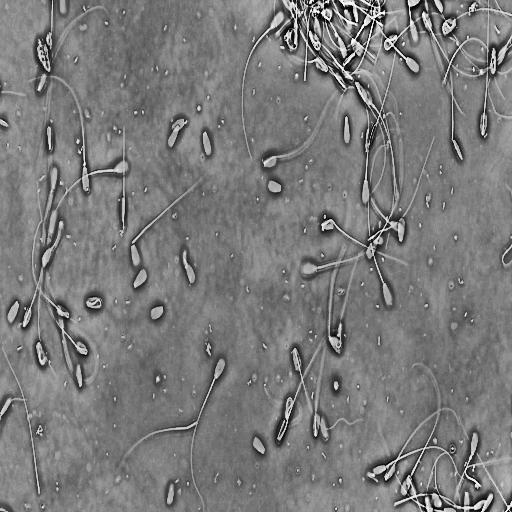coiled-tail: (309, 30, 321, 51), (442, 19, 456, 34), (285, 395, 293, 421), (37, 345, 46, 364), (86, 298, 101, 309), (490, 50, 496, 74), (182, 251, 188, 269)
dirt-particles: (34, 27, 54, 75)
folded-tail: (264, 87, 342, 166), (293, 348, 363, 431), (386, 408, 459, 481), (132, 178, 201, 244), (422, 13, 488, 76), (32, 220, 69, 318), (322, 219, 403, 262), (384, 12, 443, 51), (48, 309, 87, 355), (23, 258, 44, 326), (329, 245, 344, 340), (482, 2, 489, 135), (447, 56, 453, 141), (122, 128, 125, 230)
loose-head: (166, 123, 181, 151), (6, 299, 20, 324), (133, 267, 148, 290), (202, 129, 213, 158), (252, 435, 266, 456), (171, 116, 188, 133), (267, 178, 283, 195), (397, 216, 407, 243), (75, 361, 84, 390), (343, 113, 351, 145), (150, 304, 165, 321), (166, 482, 175, 507)
loose-tail: (1, 339, 42, 501), (440, 34, 506, 103), (120, 417, 199, 472)
normal: (23, 75, 90, 197), (262, 85, 347, 170), (128, 175, 204, 270), (241, 12, 284, 166), (290, 345, 364, 432), (383, 405, 460, 483), (189, 355, 227, 512), (50, 158, 129, 226), (420, 8, 490, 79), (367, 2, 400, 150), (367, 142, 395, 308), (336, 84, 371, 207), (319, 217, 405, 265), (31, 218, 70, 320), (370, 445, 470, 483), (300, 237, 384, 277), (373, 12, 421, 76), (383, 12, 445, 54), (47, 302, 89, 359), (327, 241, 347, 357), (447, 51, 464, 163), (22, 255, 45, 329), (478, 1, 490, 139), (118, 125, 126, 236), (181, 249, 196, 285), (440, 13, 459, 37), (34, 340, 48, 369), (488, 42, 498, 78), (85, 294, 104, 312)
proximal-droplet: (83, 162, 86, 167)
